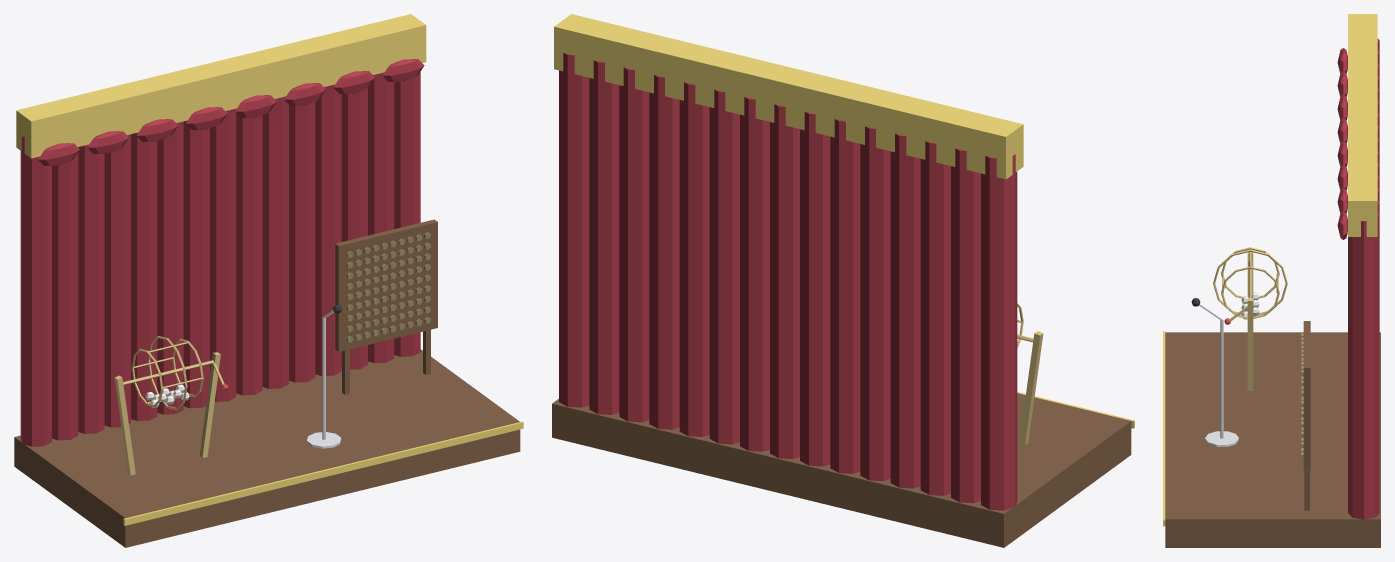
File: HJ_Tarima.fbx
The picture shows the model from 3 angles, left to right: view 1: azimuth 30°, elevation 25°; view 2: azimuth 150°, elevation 25°; view 3: azimuth 270°, elevation 25°; orthographic projection. The views are drawn at different scales.
Parts seen in each view (by area): view 1: HJ_Tarima; view 2: HJ_Tarima; view 3: HJ_Tarima.
Part boxes in pixels (x1,y1,x2,y2): HJ_Tarima: (14,14,523,547); HJ_Tarima: (552,14,1134,547); HJ_Tarima: (1163,14,1380,547).
Size of the model in its own units: 3.94 by 3.38 by 1.92.
